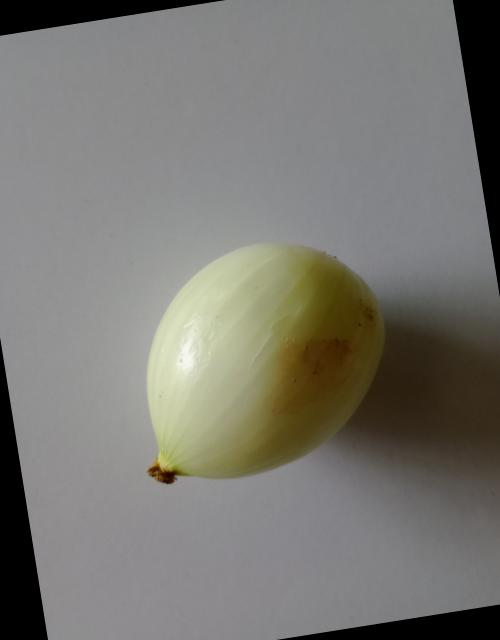Cebolla-: (50, 166, 446, 552)
